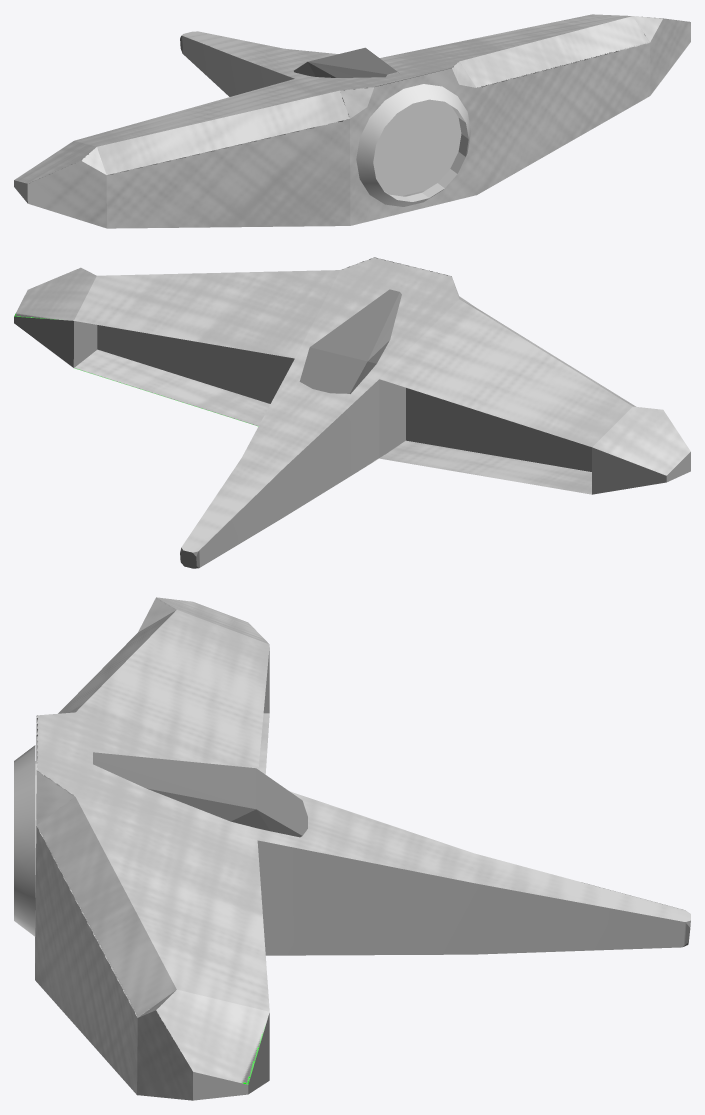
File: SpaceRanger.FBX
3 renders of one model, top to bottom at view 1: azimuth 30°, elevation 25°; view 2: azimuth 150°, elevation 25°; view 3: azimuth 270°, elevation 25°, orthographic. The views are drawn at different scales.
Parts seen in each view (by area): view 1: Pyramid001, Cylinder001, Hedra001; view 2: Pyramid001, InteriorJetEngineFOIL, Hedra001; view 3: Pyramid001, Hedra001, Cylinder001.
Part boxes in pixels (x1,y1,x2,y2): Pyramid001: (14,14,690,228); Cylinder001: (356,84,470,206); Hedra001: (294,47,405,121); Pyramid001: (14,257,690,568); InteriorJetEngineFOIL: (97,325,591,471); Hedra001: (299,289,401,393); Pyramid001: (35,597,690,1100); Hedra001: (93,752,307,837); Cylinder001: (14,745,43,936).
Bounding box in the file's own units: 262 × 51.63 × 159.
1 material, 1 textured.
